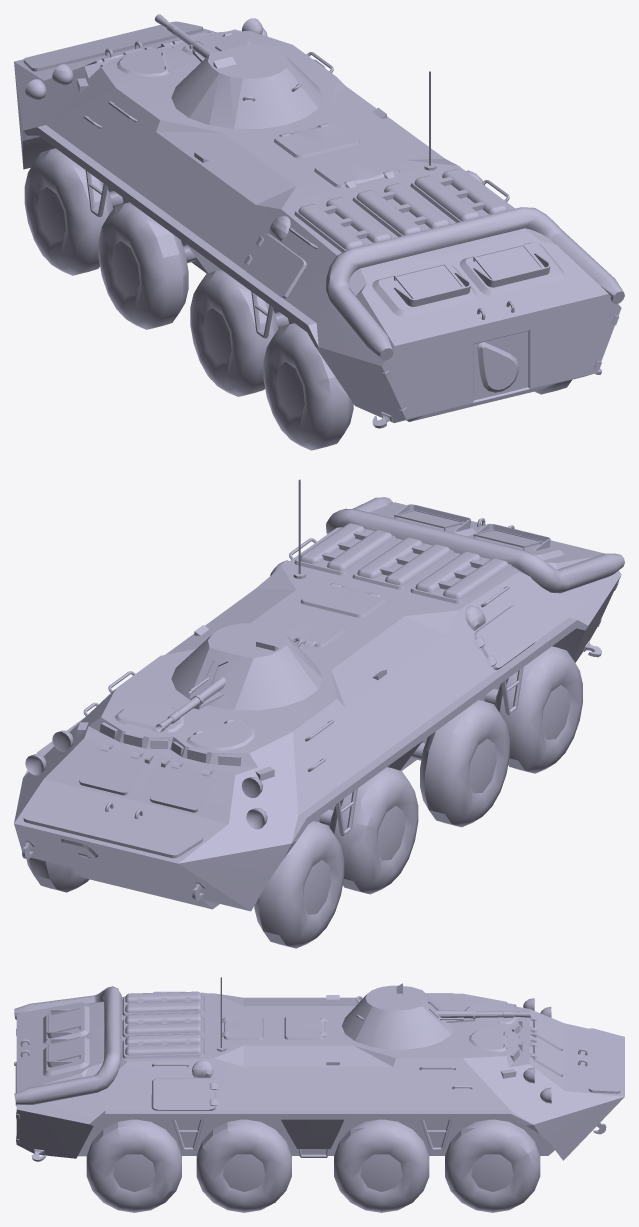
File: BTR.fbx
The picture shows the model from 3 angles, top to bottom: view 1: azimuth 30°, elevation 25°; view 2: azimuth 150°, elevation 25°; view 3: azimuth 270°, elevation 25°; orthographic projection. The views are drawn at different scales.
Parts seen in each view (by area): view 1: Body, polySurface2, polySurface4, polySurface1, polySurface3; view 2: Body, polySurface3, polySurface2, polySurface1, polySurface4, polySurface5; view 3: Body, polySurface6, polySurface8, polySurface7, polySurface5.
Boxes of the visible parts, x1,y1,x2,y2 form: Body: [14, 14, 624, 428]; polySurface2: [98, 202, 188, 329]; polySurface4: [263, 323, 353, 450]; polySurface1: [24, 148, 112, 275]; polySurface3: [190, 269, 278, 396]; Body: [14, 479, 624, 911]; polySurface3: [420, 700, 509, 827]; polySurface2: [329, 767, 418, 894]; polySurface1: [254, 821, 344, 948]; polySurface4: [495, 646, 582, 773]; polySurface5: [26, 857, 89, 892]; Body: [14, 977, 624, 1161]; polySurface6: [334, 1119, 429, 1212]; polySurface8: [86, 1119, 181, 1212]; polySurface7: [196, 1119, 291, 1212]; polySurface5: [445, 1119, 540, 1212].
Size of the model in its own units: 316 by 316 by 817.
